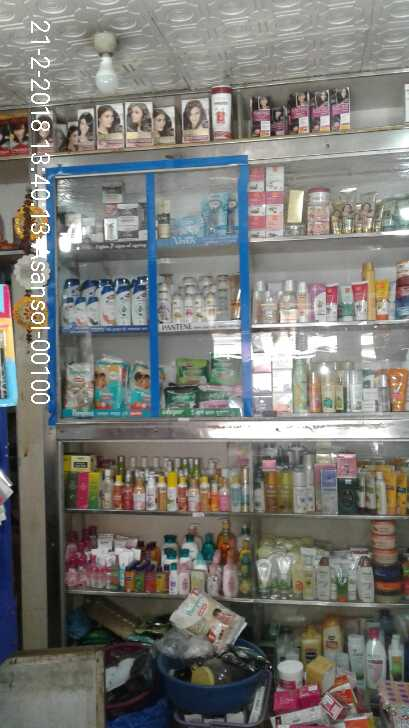venus: (202, 195, 225, 234), (225, 193, 239, 234), (177, 215, 200, 237)
